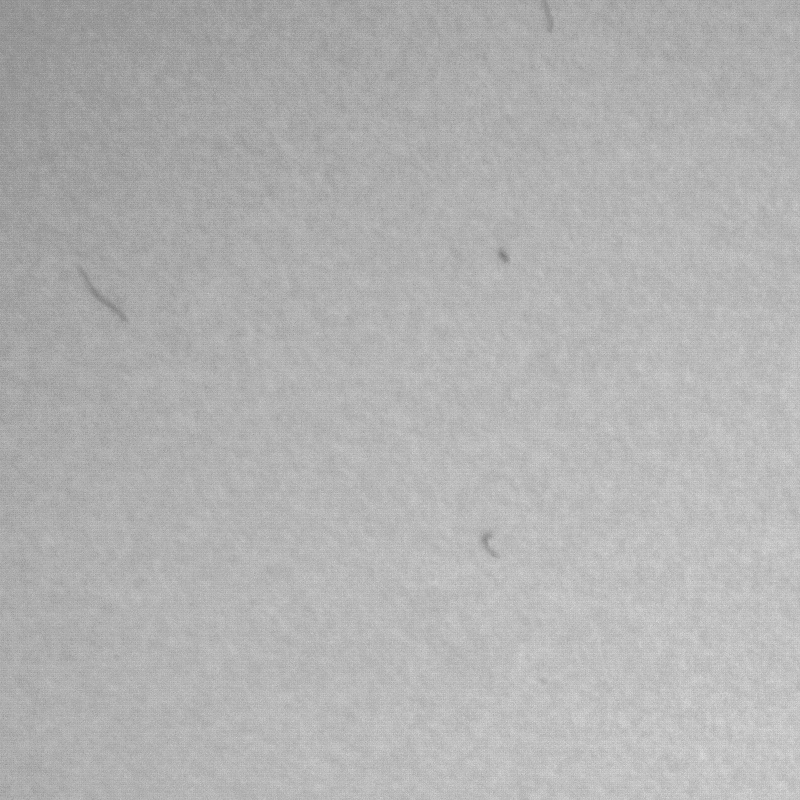defect: (73, 262, 129, 321), (479, 522, 506, 556), (543, 1, 554, 30), (497, 249, 510, 264)
